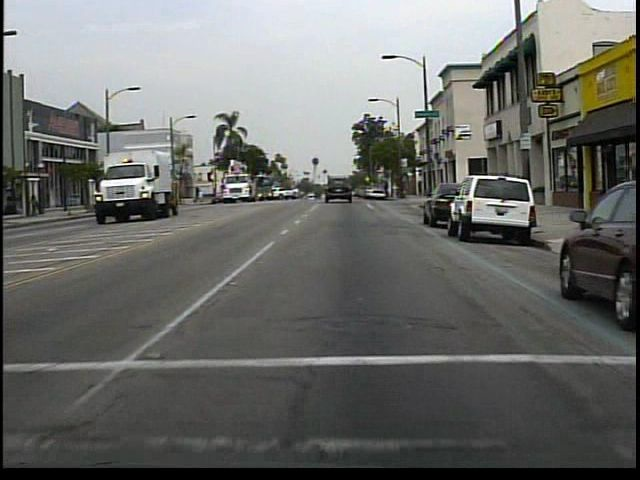person: (33, 192, 43, 220)
